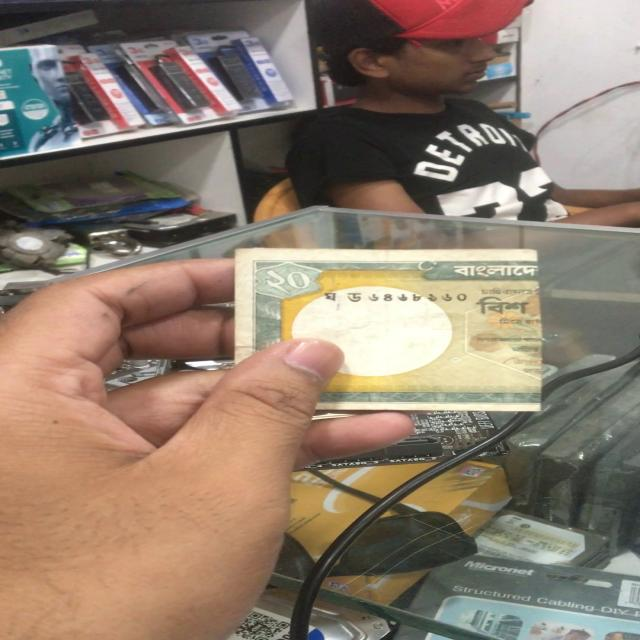Taka: (228, 249, 538, 409)
